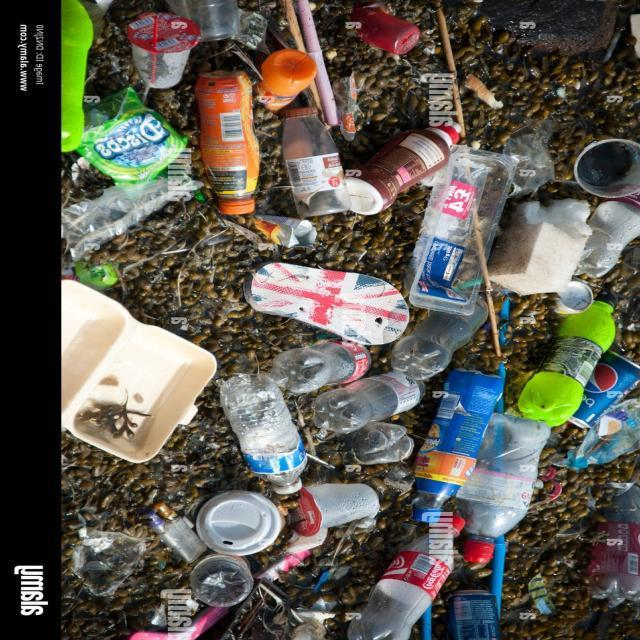Disposable: (61, 280, 216, 462), (409, 151, 516, 315), (195, 490, 281, 556), (126, 12, 199, 89), (296, 484, 378, 536), (572, 139, 640, 198), (166, 0, 238, 41)
Garbage: (62, 0, 640, 640)
Plastic: (244, 262, 409, 345), (146, 502, 206, 562)
Plastic_Bag: (558, 399, 640, 468), (502, 132, 553, 196), (73, 261, 118, 291)
Plastic_Straw: (489, 535, 506, 615), (496, 362, 506, 380), (494, 398, 501, 414)
Plastic_bottle: (347, 512, 463, 640), (455, 414, 550, 564), (412, 369, 502, 522), (517, 295, 614, 426), (345, 121, 460, 215), (220, 374, 306, 495), (194, 70, 259, 214), (61, 179, 167, 261), (390, 301, 487, 380), (281, 108, 351, 216), (311, 371, 424, 434), (586, 485, 640, 606), (574, 191, 640, 278), (269, 341, 369, 394), (60, 0, 92, 151), (256, 49, 317, 111), (189, 554, 252, 608), (351, 8, 419, 55), (345, 421, 414, 465)
Plastic_wraper: (77, 88, 186, 184), (221, 579, 296, 640), (331, 73, 356, 141), (255, 550, 310, 580), (186, 606, 228, 640), (232, 9, 267, 49), (127, 631, 184, 640)
Thermocol: (487, 199, 591, 295)
can: (569, 351, 640, 428), (449, 590, 499, 640), (555, 278, 592, 314)
